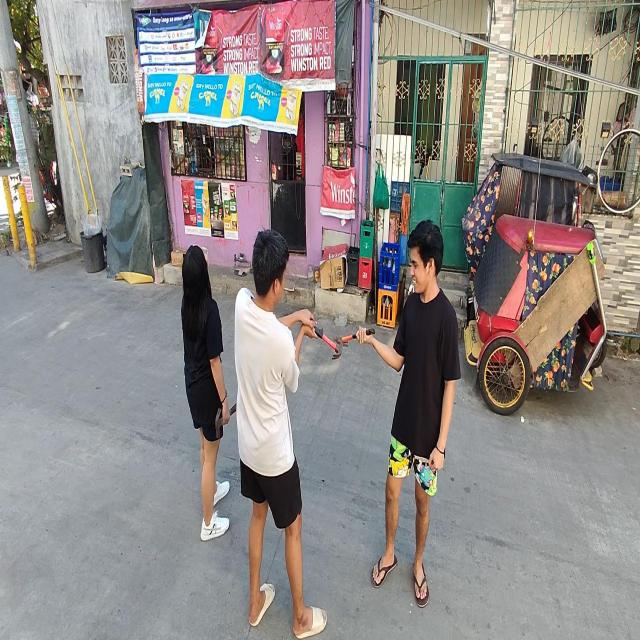hammer: (314, 326, 343, 360), (216, 402, 237, 438), (334, 328, 376, 346)
